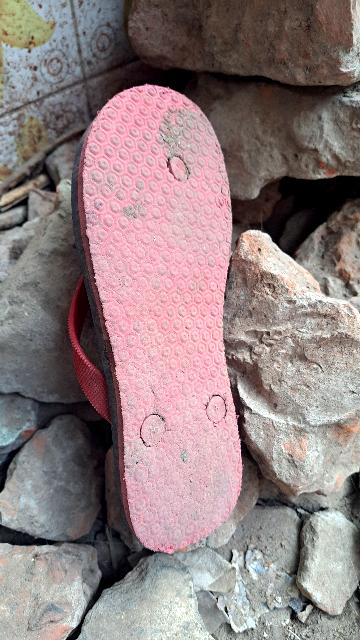sandal: (54, 63, 263, 566)
